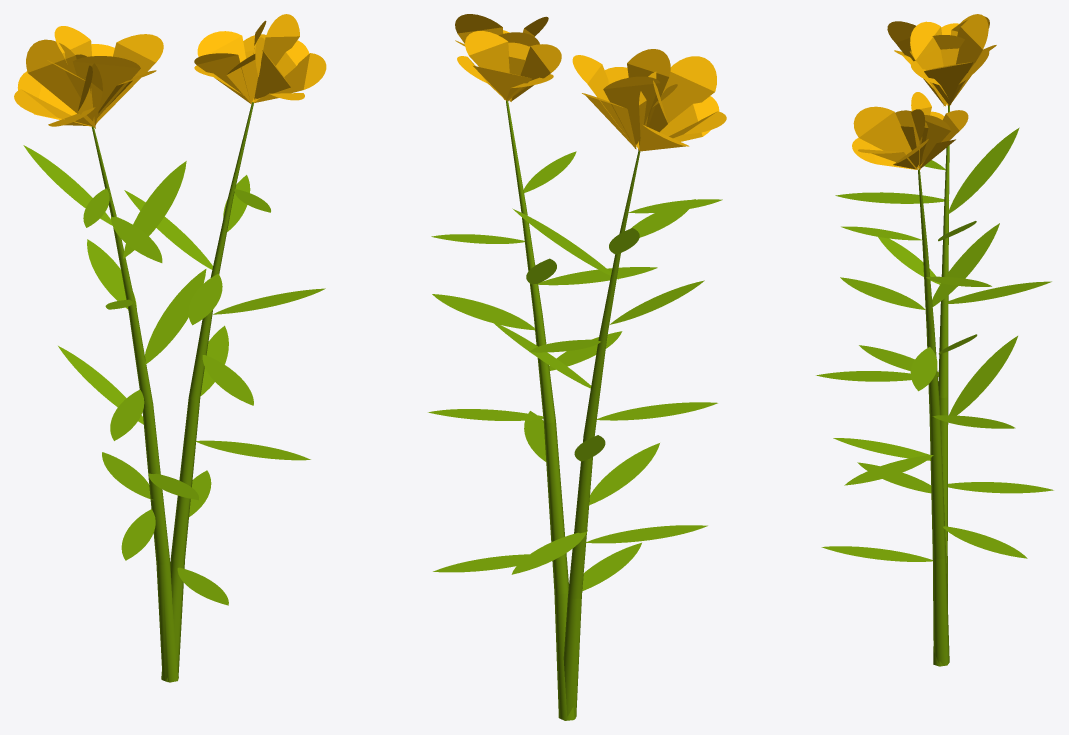
File: milkweed_adult.fbx
3 renders of one model, left to right at view 1: azimuth 30°, elevation 25°; view 2: azimuth 150°, elevation 25°; view 3: azimuth 270°, elevation 25°, orthographic. The views are drawn at different scales.
Parts seen in each view (by area): view 1: SketchUp.010, SketchUp.020, SketchUp.005, SketchUp.016, SketchUp, SketchUp.018, SketchUp.004, SketchUp.031, SketchUp.029, SketchUp.008, SketchUp.038, SketchUp.039 (+20 smaller); view 2: SketchUp.010, SketchUp.013, SketchUp.012, SketchUp.025, SketchUp.040, SketchUp.001, SketchUp.016, SketchUp.035, SketchUp.003, SketchUp.045, SketchUp.019, SketchUp.043 (+25 smaller); view 3: SketchUp.010, SketchUp.033, SketchUp.008, SketchUp.037, SketchUp.009, SketchUp.016, SketchUp.012, SketchUp.018, SketchUp.044, SketchUp.039, SketchUp.006, SketchUp.048 (+17 smaller).
Boxes of the visible parts, x1,y1,x2,y2 form: SketchUp.010: (91, 102, 253, 682); SketchUp.020: (26, 39, 95, 128); SketchUp.005: (145, 269, 206, 364); SketchUp.016: (72, 56, 140, 117); SketchUp: (123, 161, 186, 258); SketchUp.018: (96, 34, 163, 123); SketchUp.004: (87, 239, 136, 309); SketchUp.031: (263, 14, 299, 65); SketchUp.029: (253, 53, 326, 102); SketchUp.008: (23, 145, 112, 225); SketchUp.038: (202, 355, 253, 405); SketchUp.039: (195, 440, 310, 460); SketchUp.010: (506, 100, 640, 720); SketchUp.013: (661, 56, 716, 123); SketchUp.012: (603, 76, 660, 148); SketchUp.025: (465, 31, 511, 101); SketchUp.040: (589, 443, 659, 505); SketchUp.001: (432, 294, 534, 330); SketchUp.016: (627, 49, 670, 150); SketchUp.035: (511, 44, 561, 101); SketchUp.003: (585, 525, 707, 543); SketchUp.045: (596, 402, 717, 420); SketchUp.019: (660, 96, 719, 141); SketchUp.043: (511, 530, 587, 574); SketchUp.010: (918, 105, 949, 666); SketchUp.033: (853, 106, 920, 169); SketchUp.008: (949, 127, 1019, 213); SketchUp.037: (949, 336, 1017, 415); SketchUp.009: (932, 223, 999, 307); SketchUp.016: (910, 21, 943, 70); SketchUp.012: (949, 14, 988, 106); SketchUp.018: (924, 62, 973, 105); SketchUp.044: (821, 546, 932, 561); SketchUp.039: (844, 455, 933, 485); SketchUp.006: (840, 277, 925, 309); SketchUp.048: (943, 526, 1027, 558).
Bounding box in the file's own units: 30.14 × 64.51 × 28.81.
